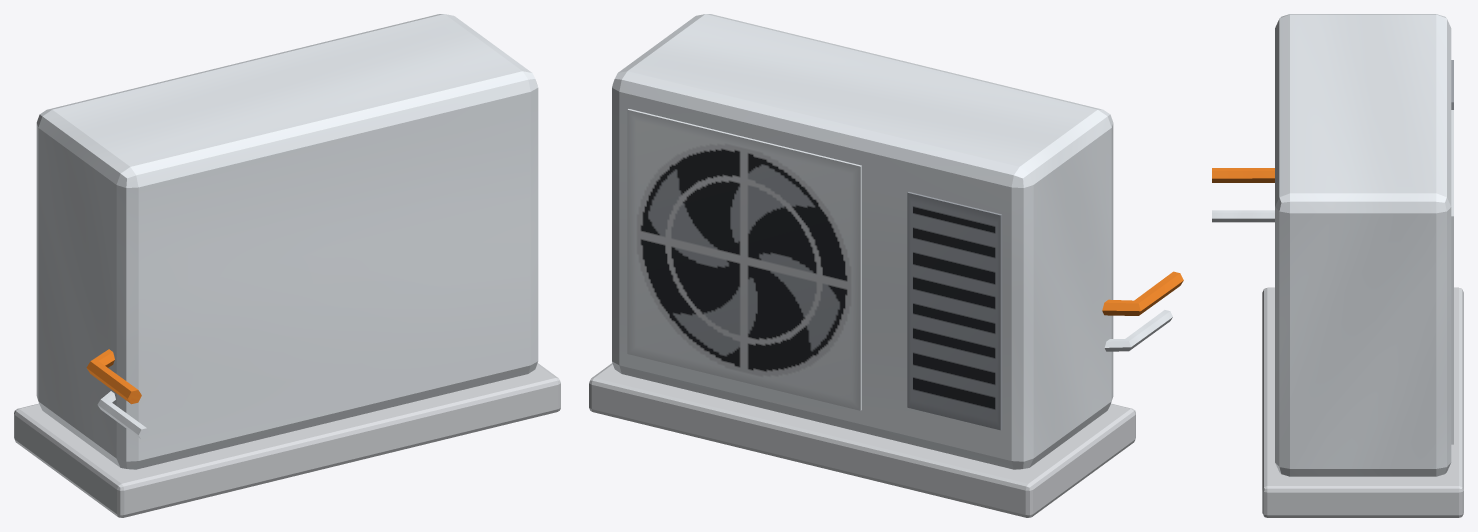
File: SW_AcUnit.glb
3 views of the same model, side by side, from view 1: azimuth 30°, elevation 25°; view 2: azimuth 150°, elevation 25°; view 3: azimuth 270°, elevation 25° (orthographic). The views are drawn at different scales.
Parts seen in each view (by area): view 1: Unit; view 2: Unit; view 3: Unit.
Boxes of the visible parts, box(x1,y1,x2,y2) form: Unit: box(14, 14, 560, 517); Unit: box(589, 14, 1183, 517); Unit: box(1212, 14, 1463, 517).
Bounding box in the file's own units: 0.99 × 0.69 × 0.5.
2 materials, 1 textured.
